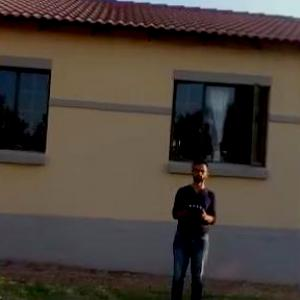follow: (166, 153, 220, 299)
